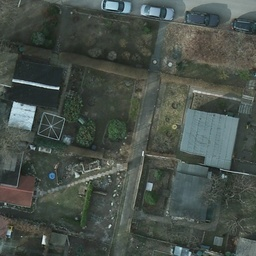car: (137, 2, 173, 18), (186, 11, 220, 27), (230, 15, 255, 33), (98, 1, 130, 14)
